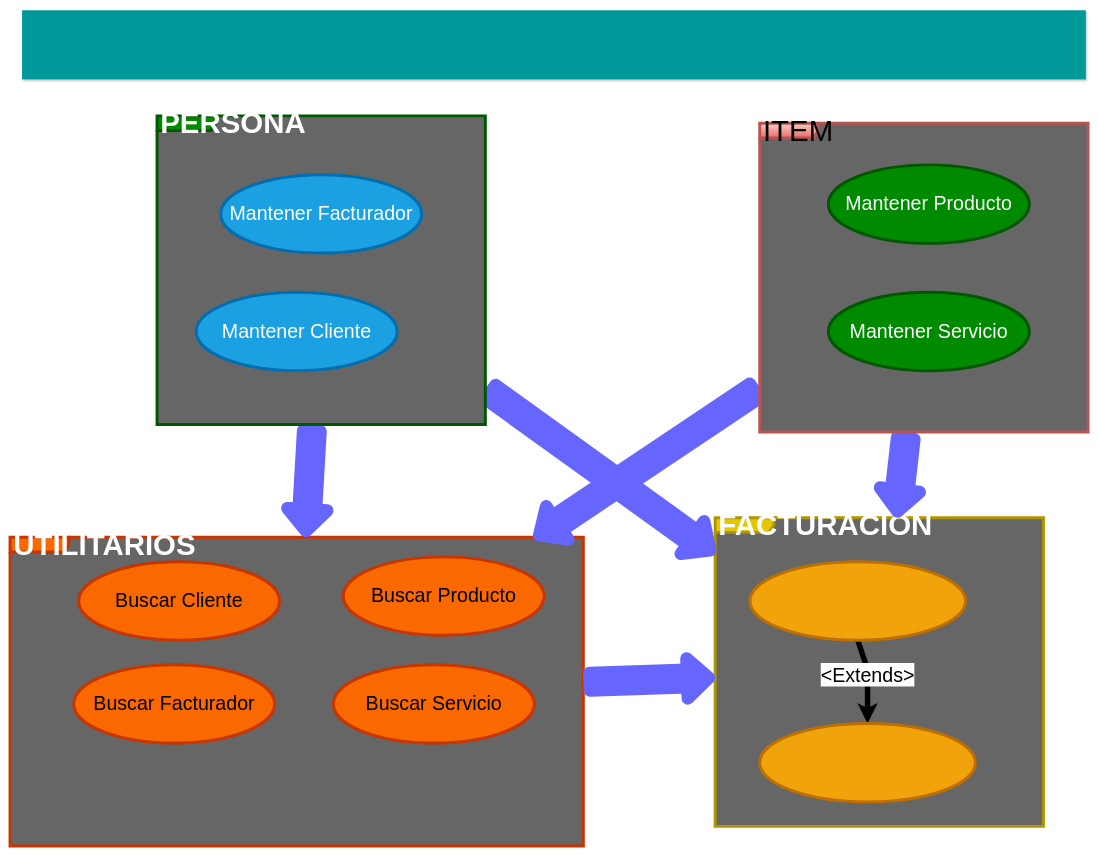
Some shapes in this 1098 by 856 pixel diagram are drawn without their labels. Each missing label, with the centre of its shape:
"DIAGRAMA MODELO DE ANALISIS DE NEGOCIO" belongs at pixel 554 45.
"Exportar Factura" belongs at pixel 867 762.
"Registrar Factura" belongs at pixel 857 600.
